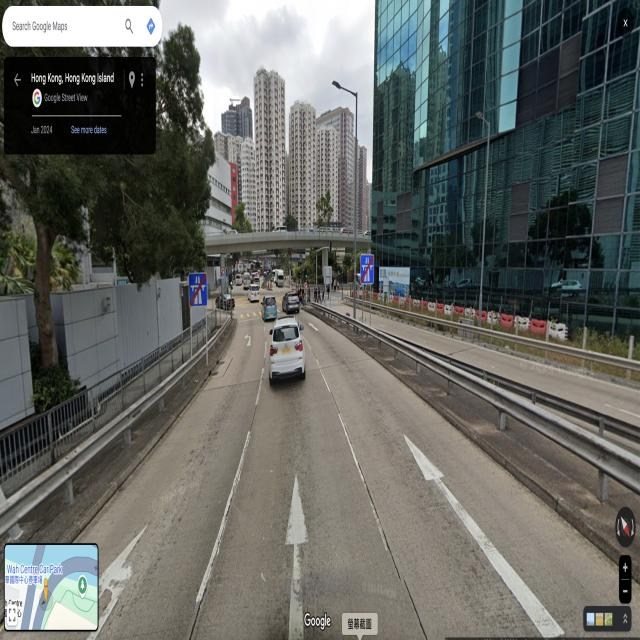Direction-Sign: (189, 270, 208, 310), (361, 253, 374, 286)
